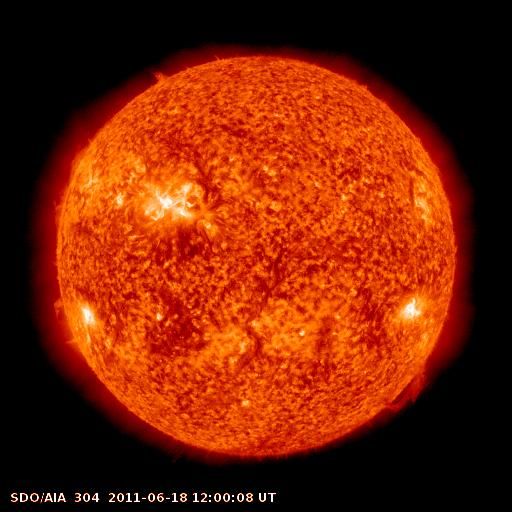prominence: (382, 357, 431, 416), (49, 291, 83, 354), (65, 140, 91, 185), (145, 61, 178, 92), (51, 187, 69, 232)
